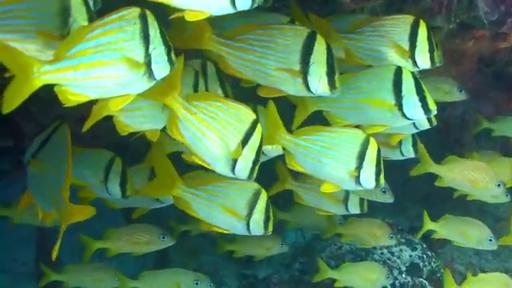Fish: (0, 7, 175, 113), (143, 56, 262, 179), (168, 20, 339, 96), (140, 142, 272, 235), (19, 121, 95, 260), (267, 101, 383, 191), (289, 66, 436, 132), (293, 13, 443, 71), (175, 171, 272, 235), (0, 0, 100, 60), (410, 144, 510, 203), (268, 161, 367, 215), (103, 164, 173, 219), (83, 96, 169, 140), (80, 224, 175, 262), (416, 211, 498, 250), (72, 147, 132, 198), (149, 0, 271, 21), (312, 258, 393, 287), (208, 10, 292, 36), (268, 162, 324, 198), (181, 60, 234, 98), (272, 204, 338, 233), (39, 264, 122, 287), (333, 217, 396, 247), (120, 268, 214, 287), (217, 236, 288, 260), (104, 196, 173, 219), (468, 151, 511, 187), (256, 106, 283, 162), (0, 204, 59, 227), (420, 75, 467, 102), (372, 133, 419, 159), (444, 269, 511, 287), (67, 0, 101, 35), (379, 116, 437, 134), (349, 182, 394, 203), (168, 217, 211, 238), (473, 116, 511, 137), (498, 220, 511, 245)
